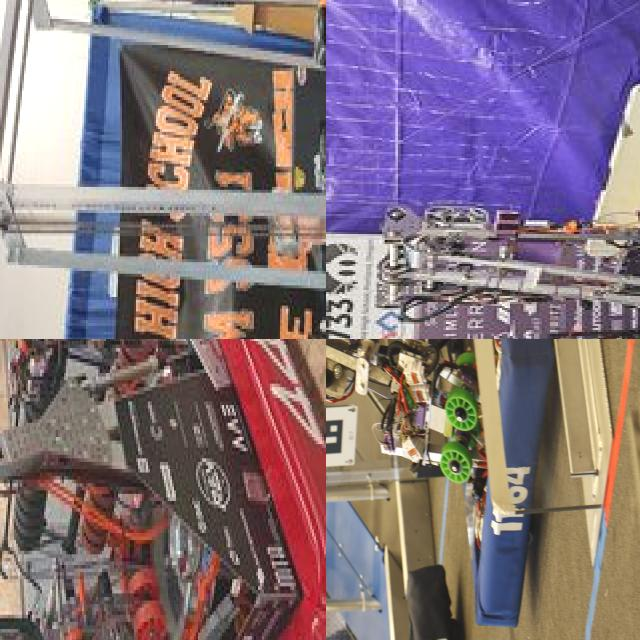FRC-Robots: (0, 0, 326, 339), (0, 339, 326, 640), (326, 339, 561, 620), (365, 173, 640, 339)
